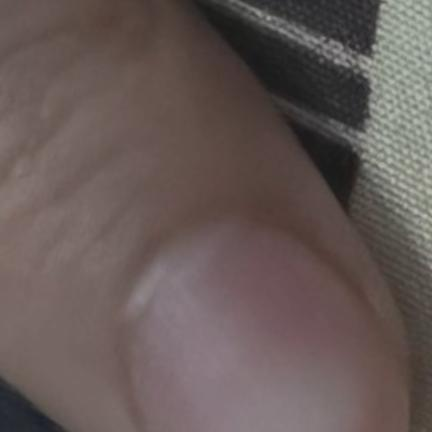Nail: (126, 219, 408, 431)
